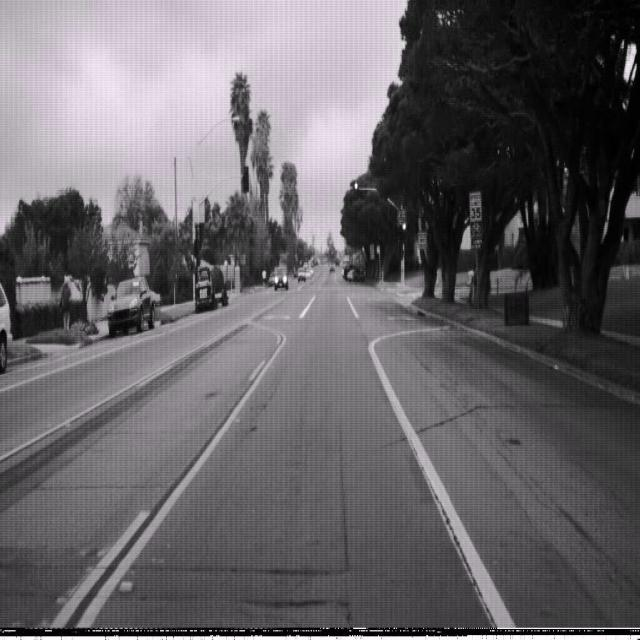speedLimit35: (468, 189, 482, 223)
